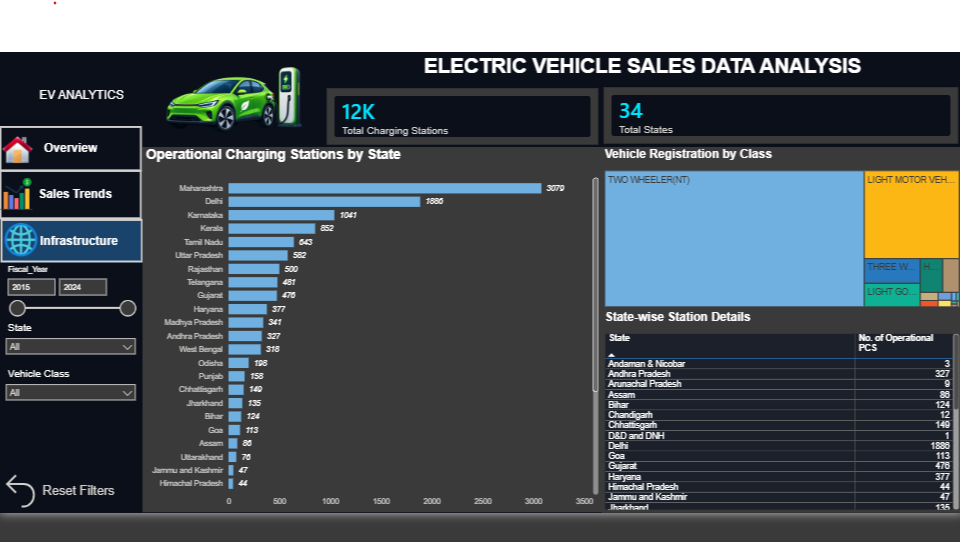

This screenshot's page, from the dashboard's own definition file:
{"tool":"powerbi","page":{"name":"Infrastructure","canvas":[1500,720],"ordinal":2},"visuals":[{"type":"cardVisual","fields":{"Data":["cleaned_OperationalPC.Total States"]},"box":[936.7,51.7,562.9,98.6],"z":0},{"type":"slicer","fields":{"Values":["cleaned_Vehicle_Class_All.Vehicle Class"]},"box":[0,488.3,221.7,78.3],"z":1000},{"type":"textbox","box":[504.7,0,995.3,53],"z":2000},{"type":"slicer","fields":{"Values":["cleaned_ev_sales_by_makers_and_cat_15-24.Fiscal_Year"]},"box":[0,328.7,221.7,90],"z":3000},{"type":"slicer","fields":{"Values":["cleaned_OperationalPC.State"]},"box":[0,417.6,221.7,70],"z":4000},{"type":"actionButton","box":[0,116.6,221.8,70.6],"z":5000},{"type":"actionButton","box":[1.6,261.7,221.8,67.7],"z":6000},{"type":"image","box":[0,130,56.3,51.7],"z":7000},{"type":"actionButton","box":[0,185,221.7,76.7],"z":8000},{"type":"image","box":[0,190,53.3,65],"z":9000},{"type":"textbox","box":[0,53.3,221.7,63.3],"z":11000},{"type":"image","box":[0,268.3,66.7,51.7],"z":12000},{"type":"actionButton","box":[0,652.6,221.2,65.4],"z":13000},{"type":"cardVisual","fields":{"Data":["cleaned_EV_Maker_by_Place.Total Charging Stations"]},"box":[504.3,52.9,433.3,98.3],"z":14000},{"type":"image","box":[221.2,0,283.5,151.1],"z":15000},{"type":"clusteredBarChart","title":"Operational Charging Stations by State","fields":{"Category":["cleaned_OperationalPC.State"],"Y":["Sum(cleaned_OperationalPC.No. of Operational PCS)"]},"box":[222.7,149.5,715,568.5],"z":16000},{"type":"treemap","title":"Vehicle  Registration by Class","fields":{"Values":["Sum(cleaned_Vehicle_Class_All.Total Registration)"],"Group":["cleaned_Vehicle_Class_All.Vehicle Class"]},"box":[937.7,149.5,562.3,253.9],"z":17000},{"type":"tableEx","title":"State-wise Station Details","fields":{"Values":["cleaned_OperationalPC.State","cleaned_OperationalPC.No. of Operational PCS"]},"box":[937.7,403.4,562.3,316.2],"z":18000}]}

Visuals, with their boxes on the page's 1500x720 design canvas (x1, y1, x2, y2). These are canvas units, not pixel positions in the 960x542 screenshot, which may show the page scaled, cropped or inside an application window:
cardVisual - cleaned_OperationalPC.Total States: bbox=[937, 52, 1500, 150]
slicer - cleaned_Vehicle_Class_All.Vehicle Class: bbox=[0, 488, 222, 567]
textbox: bbox=[505, 0, 1500, 53]
slicer - cleaned_ev_sales_by_makers_and_cat_15-24.Fiscal_Year: bbox=[0, 329, 222, 419]
slicer - cleaned_OperationalPC.State: bbox=[0, 418, 222, 488]
actionButton: bbox=[0, 117, 222, 187]
actionButton: bbox=[2, 262, 223, 329]
image: bbox=[0, 130, 56, 182]
actionButton: bbox=[0, 185, 222, 262]
image: bbox=[0, 190, 53, 255]
textbox: bbox=[0, 53, 222, 117]
image: bbox=[0, 268, 67, 320]
actionButton: bbox=[0, 653, 221, 718]
cardVisual - cleaned_EV_Maker_by_Place.Total Charging Stations: bbox=[504, 53, 938, 151]
image: bbox=[221, 0, 505, 151]
"Operational Charging Stations by State" clusteredBarChart: bbox=[223, 150, 938, 718]
"Vehicle  Registration by Class" treemap: bbox=[938, 150, 1500, 403]
"State-wise Station Details" tableEx: bbox=[938, 403, 1500, 720]
